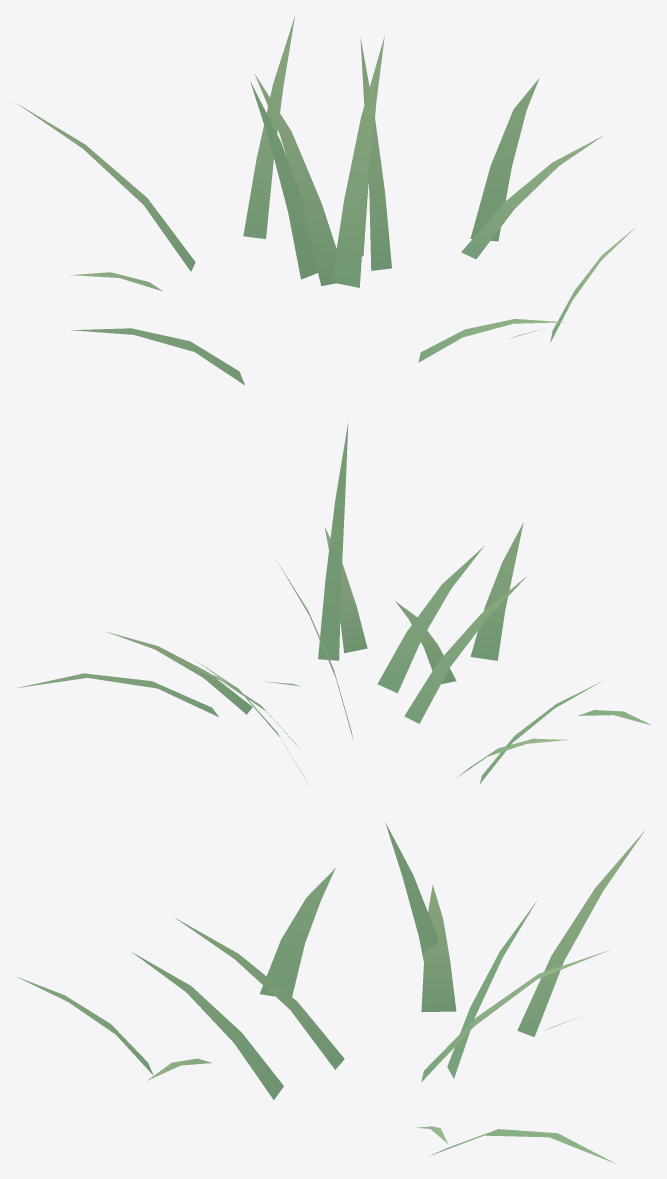
The model's file is grass_glade_c.glb.
3 views of the same model, one above another, from view 1: azimuth 30°, elevation 25°; view 2: azimuth 150°, elevation 25°; view 3: azimuth 270°, elevation 25° (orthographic). The views are drawn at different scales.
Parts seen in each view (by area): view 1: soft; view 2: soft; view 3: soft.
Part boxes in pixels (x1,y1,x2,y2): soft: (16,15,635,385); soft: (16,423,651,784); soft: (15,822,645,1163).
Size of the model in its own units: 0.5256 by 0.1836 by 0.48.
